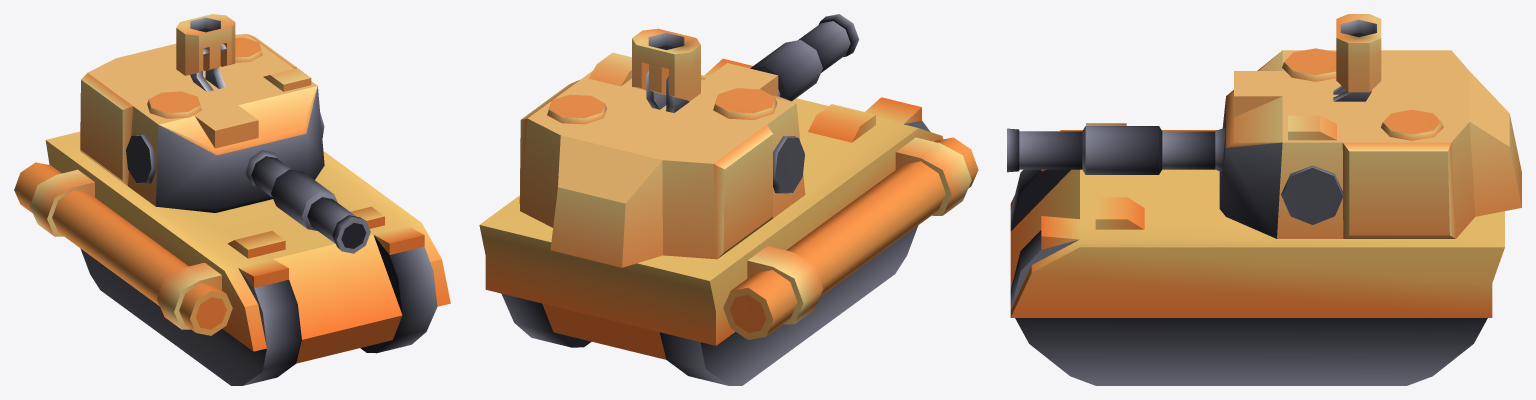
File: Tank new.fbx
3 renders of one model, left to right at view 1: azimuth 30°, elevation 25°; view 2: azimuth 150°, elevation 25°; view 3: azimuth 270°, elevation 25°, orthographic. The views are drawn at different scales.
Visible parts, largest first — view 1: Tank_base, Tank_T, Barrels, Rocket_L; view 2: Tank_T, Tank_base, Barrels, Rocket_L; view 3: Tank_base, Tank_T, Rocket_L.
Boxes of the visible parts, x1,y1,x2,y2 form: Tank_base: [45, 131, 450, 385]; Tank_T: [80, 34, 370, 253]; Barrels: [14, 162, 232, 335]; Rocket_L: [176, 14, 235, 91]; Tank_T: [519, 14, 859, 267]; Tank_base: [479, 58, 943, 385]; Barrels: [723, 137, 978, 339]; Rocket_L: [632, 28, 700, 112]; Tank_base: [1010, 169, 1504, 385]; Tank_T: [1007, 48, 1521, 238]; Rocket_L: [1333, 14, 1381, 101].
Size of the model in its own units: 146 by 148 by 224.
Materials: 1 (1 with a texture image).
